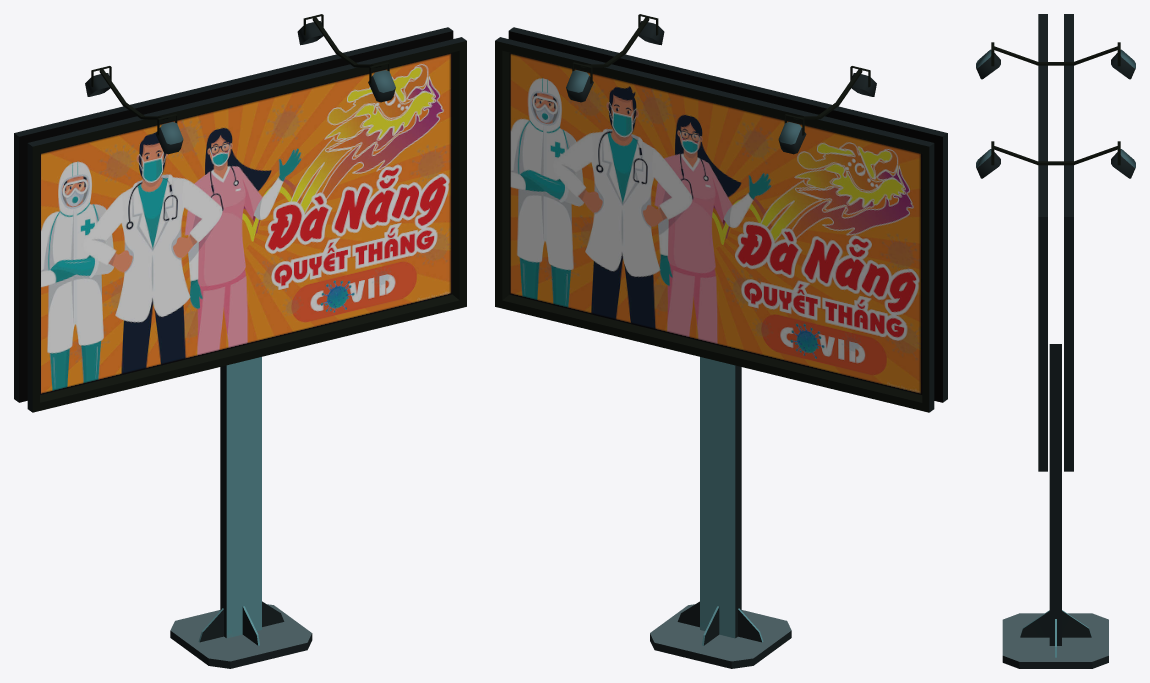
3 views of the same model, side by side, from view 1: azimuth 30°, elevation 25°; view 2: azimuth 150°, elevation 25°; view 3: azimuth 270°, elevation 25° (orthographic). The views are drawn at different scales.
Parts seen in each view (by area): view 1: Covid01; view 2: Covid01; view 3: Covid01.
Boxes of the visible parts, bbox=[...] form: Covid01: bbox=[14, 14, 466, 668]; Covid01: bbox=[495, 14, 947, 668]; Covid01: bbox=[976, 14, 1135, 668].
Size of the model in its own units: 16.17 by 20.37 by 5.38.
1 material, 1 textured.
